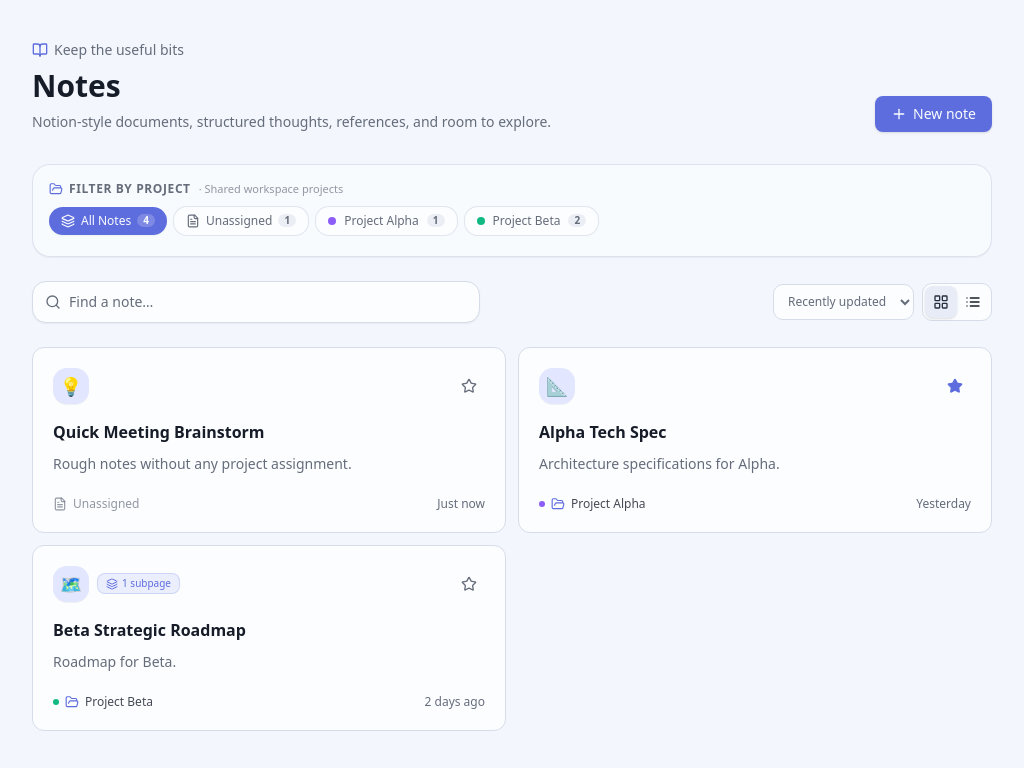
Test: MindDesk Notes & Projects UX › filters notes by project and by unassigned in NotesView
Check: the button "Quick Meeting Brainstorm" is shown, box [53, 420, 485, 444]
Check: the button "Alpha Tech Spec" is shown, box [539, 420, 971, 444]
# Filter by Unassigned
Click the button "Unassigned 1".
click(241, 220)  # box [173, 206, 309, 236]
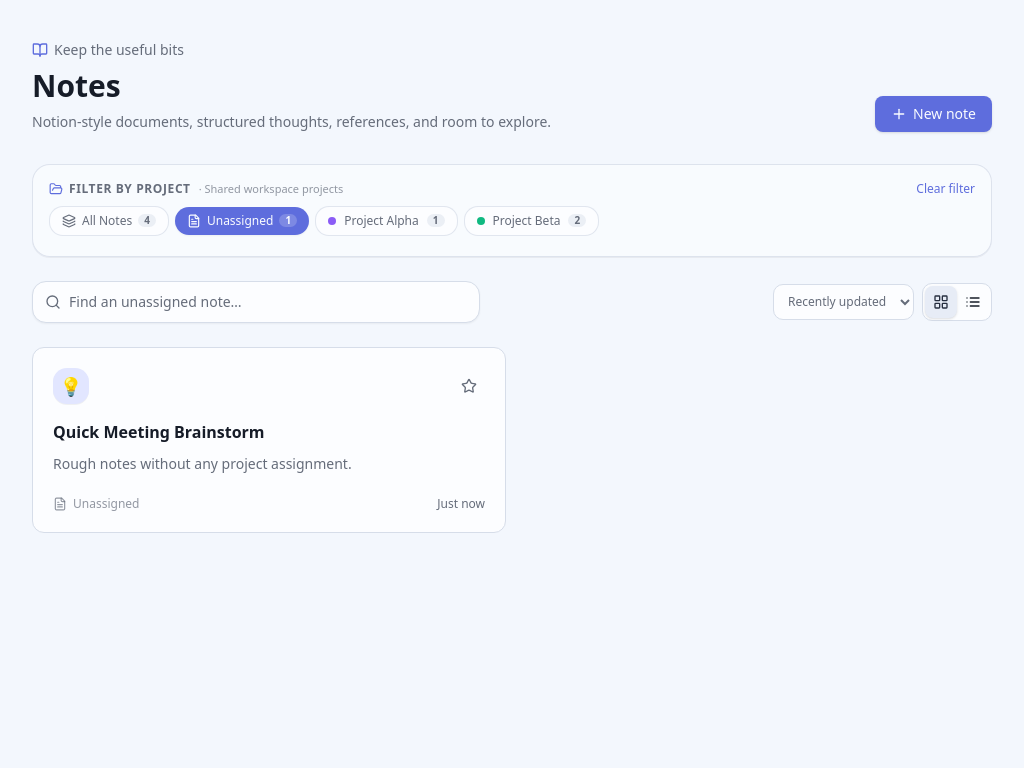
Check: the button "Quick Meeting Brainstorm" is shown, box [53, 420, 485, 444]
Check: the button "Alpha Tech Spec" is gone
Check: the button "Beta Strategic Roadmap" is gone
# Filter by Project Alpha
Click the button "Project Alpha 1".
click(386, 220)  # box [315, 206, 458, 236]
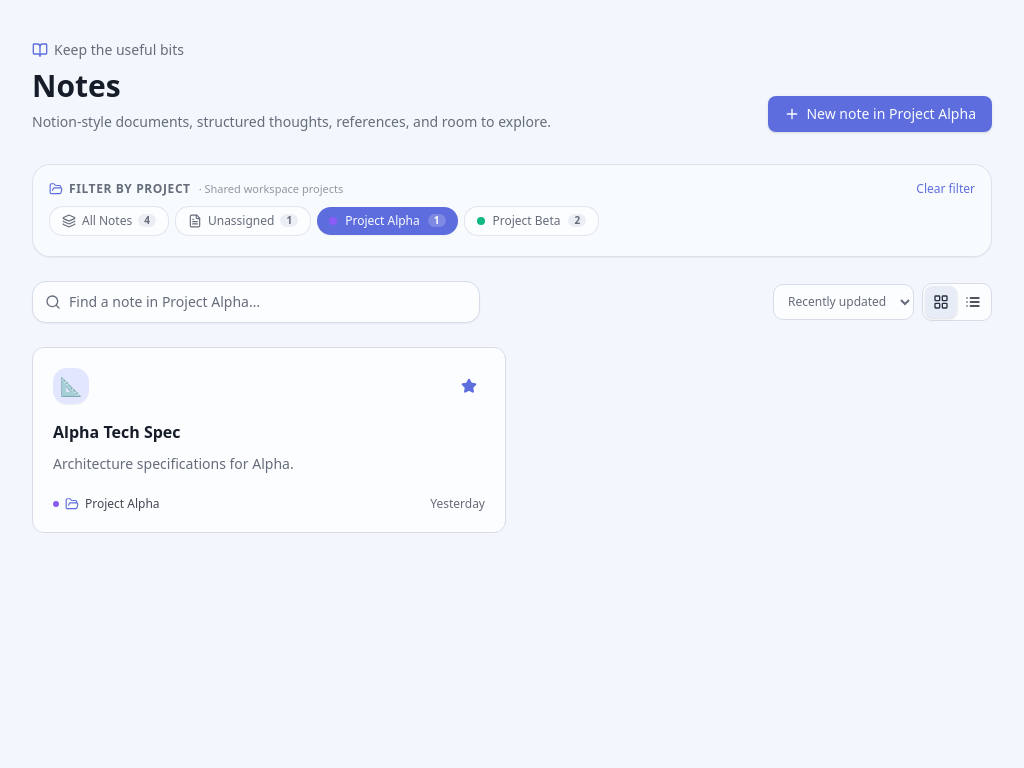
Check: the button "Beta Strategic Roadmap" is not shown
Check: the button "Alpha Tech Spec" is shown, box [53, 420, 485, 444]
Check: the button "Quick Meeting Brainstorm" is gone
# Click All Notes to reset
Click the button "All Notes 4".
click(109, 220)  # box [49, 206, 169, 236]
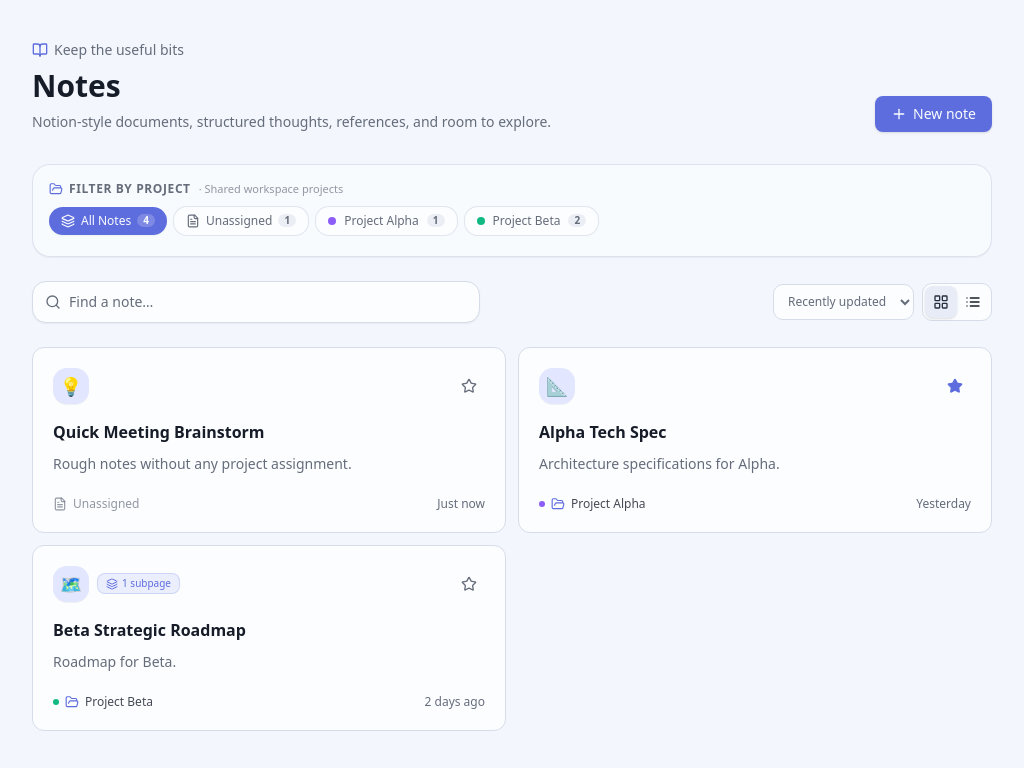
Check: the button "Alpha Tech Spec" is shown, box [539, 420, 971, 444]
Check: the button "Quick Meeting Brainstorm" is shown, box [53, 420, 485, 444]
